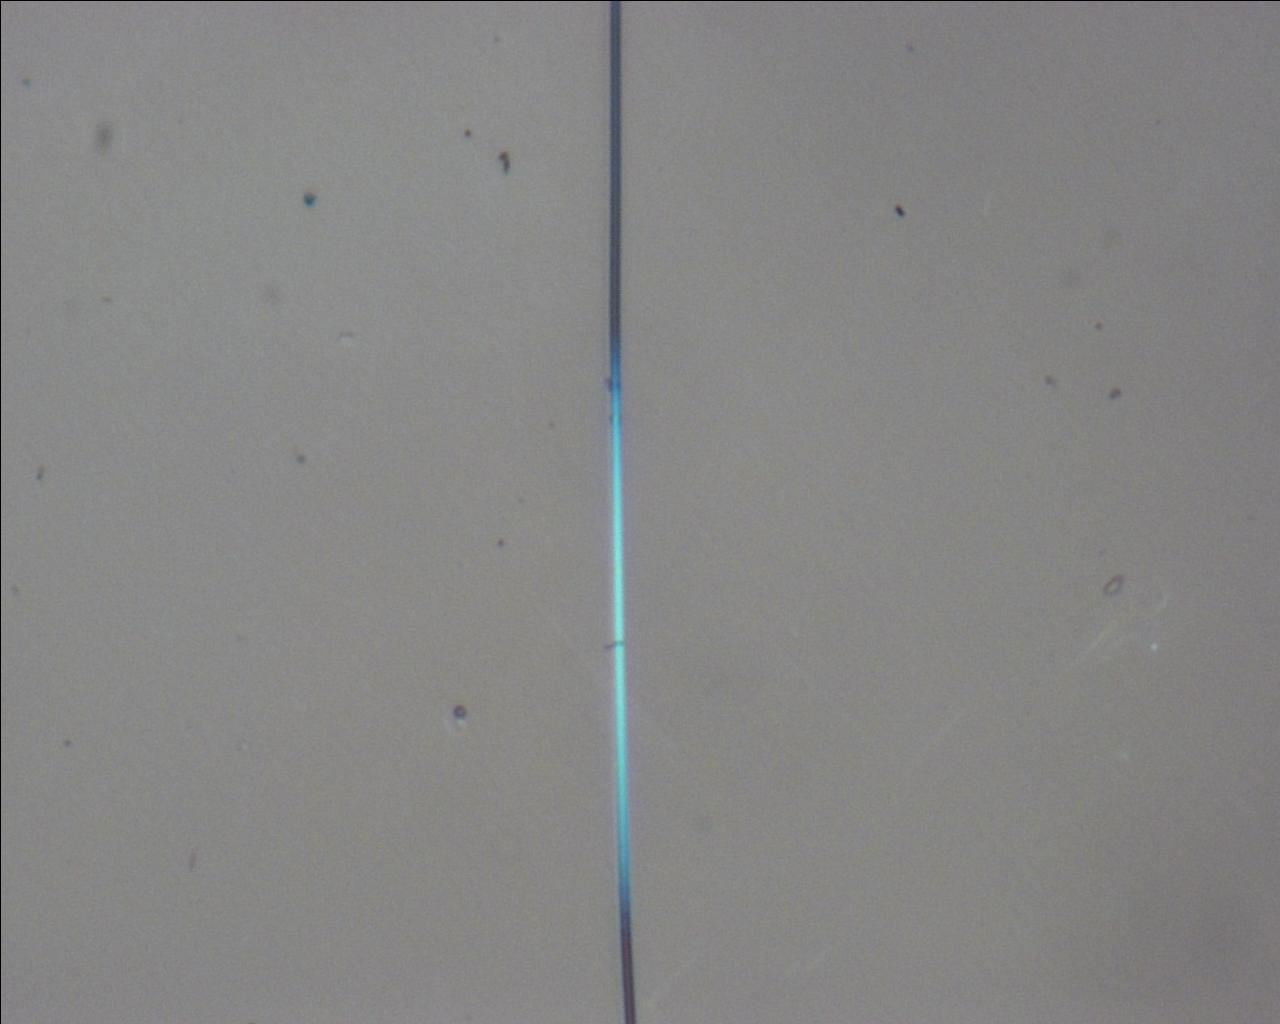fiber: (608, 0, 633, 1023)
